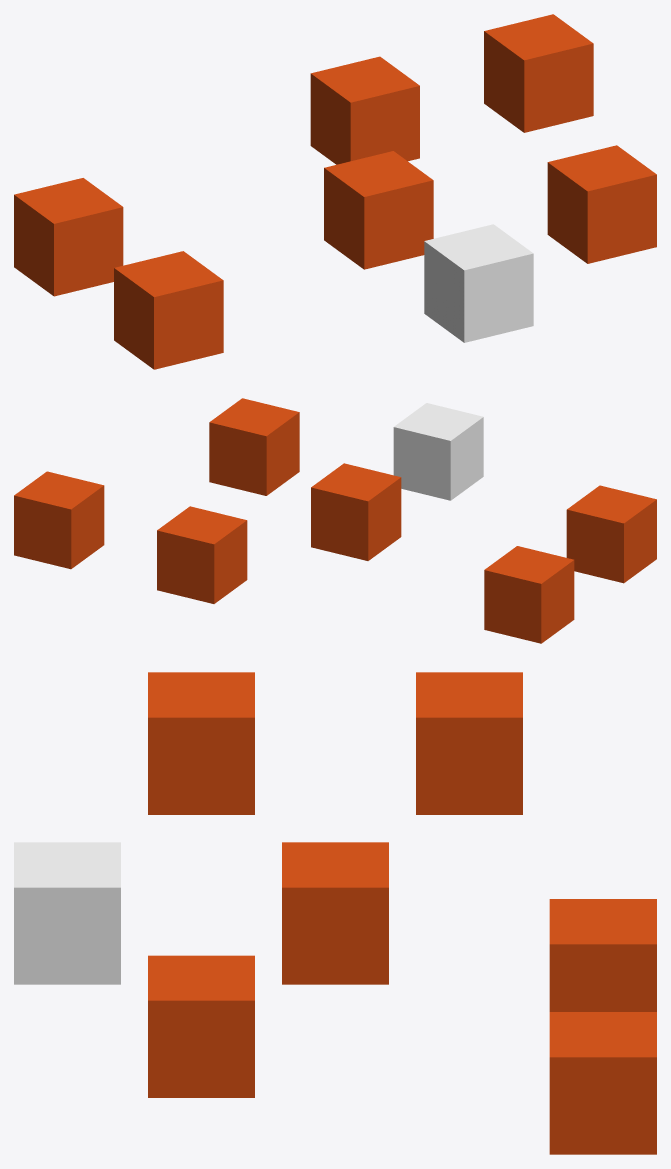
3 views of the same model, one above another, from view 1: azimuth 30°, elevation 25°; view 2: azimuth 150°, elevation 25°; view 3: azimuth 270°, elevation 25° (orthographic). The views are drawn at different scales.
Visible parts, largest first — view 1: Enemy4, Enemy5, Block, Enemy0, Enemy1, Enemy2, Enemy3; view 2: Enemy5, Enemy2, Enemy4, Enemy3, Enemy1, Enemy0, Block; view 3: Enemy5, Block, Enemy0, Enemy1, Enemy2, Enemy4, Enemy3.
Boxes of the visible parts, x1=… form: Enemy4: x1=547, y1=145, x2=656, y2=263; Enemy5: x1=484, y1=14, x2=593, y2=132; Block: x1=424, y1=224, x2=533, y2=342; Enemy0: x1=114, y1=251, x2=223, y2=369; Enemy1: x1=324, y1=151, x2=433, y2=269; Enemy2: x1=14, y1=178, x2=123, y2=296; Enemy3: x1=310, y1=56, x2=419, y2=164; Enemy5: x1=14, y1=471, x2=104, y2=569; Enemy2: x1=484, y1=546, x2=574, y2=643; Enemy4: x1=209, y1=398, x2=299, y2=495; Enemy3: x1=157, y1=506, x2=247, y2=603; Enemy1: x1=311, y1=463, x2=401, y2=560; Enemy0: x1=566, y1=485, x2=656, y2=583; Block: x1=393, y1=403, x2=483, y2=500; Enemy5: x1=549, y1=1012, x2=656, y2=1154; Block: x1=14, y1=842, x2=120, y2=984; Enemy0: x1=148, y1=672, x2=254, y2=814; Enemy1: x1=282, y1=842, x2=388, y2=984; Enemy2: x1=416, y1=672, x2=522, y2=814; Enemy4: x1=148, y1=955, x2=254, y2=1097; Enemy3: x1=549, y1=899, x2=656, y2=1011.
Size of what is drawn, in the model's own units: 6.8 by 4.8 by 0.8.
